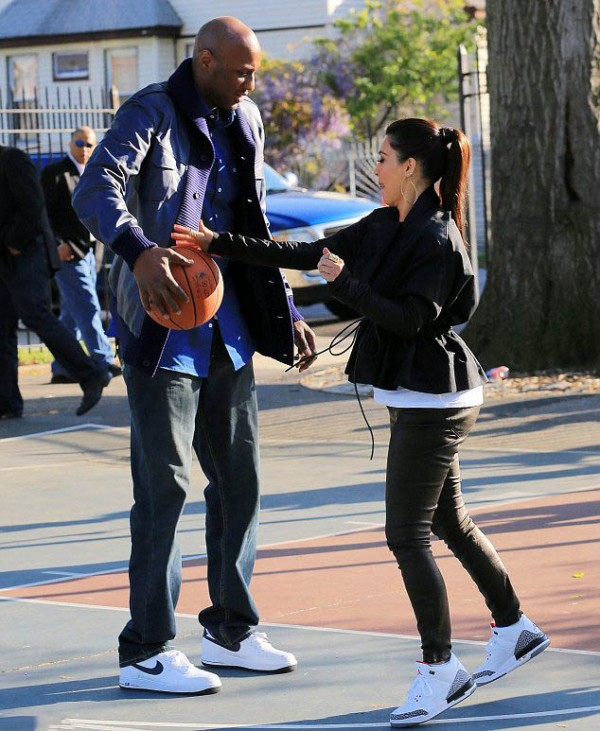Person: (65, 21, 303, 674), (309, 115, 538, 700)
